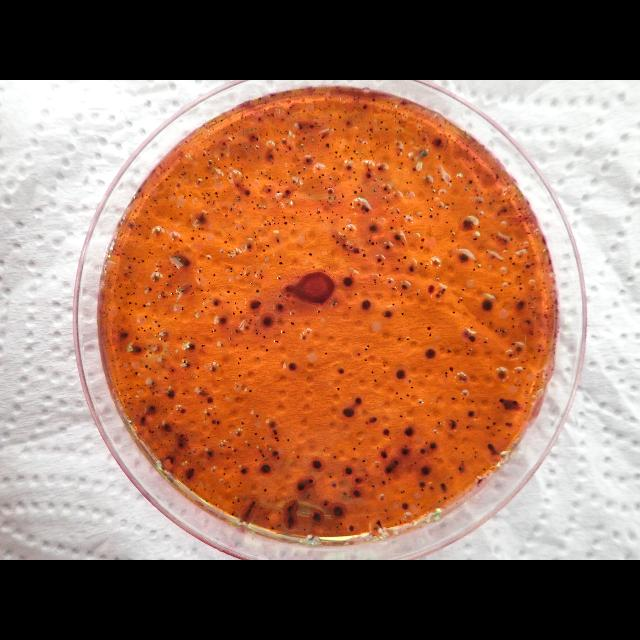colony: (340, 272, 358, 290), (358, 296, 374, 316), (394, 366, 408, 384), (382, 305, 394, 321)
